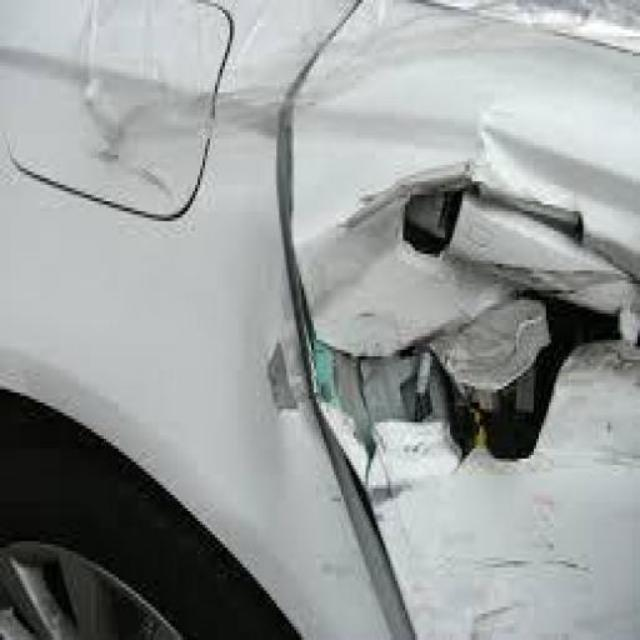crack: (76, 0, 635, 517)
